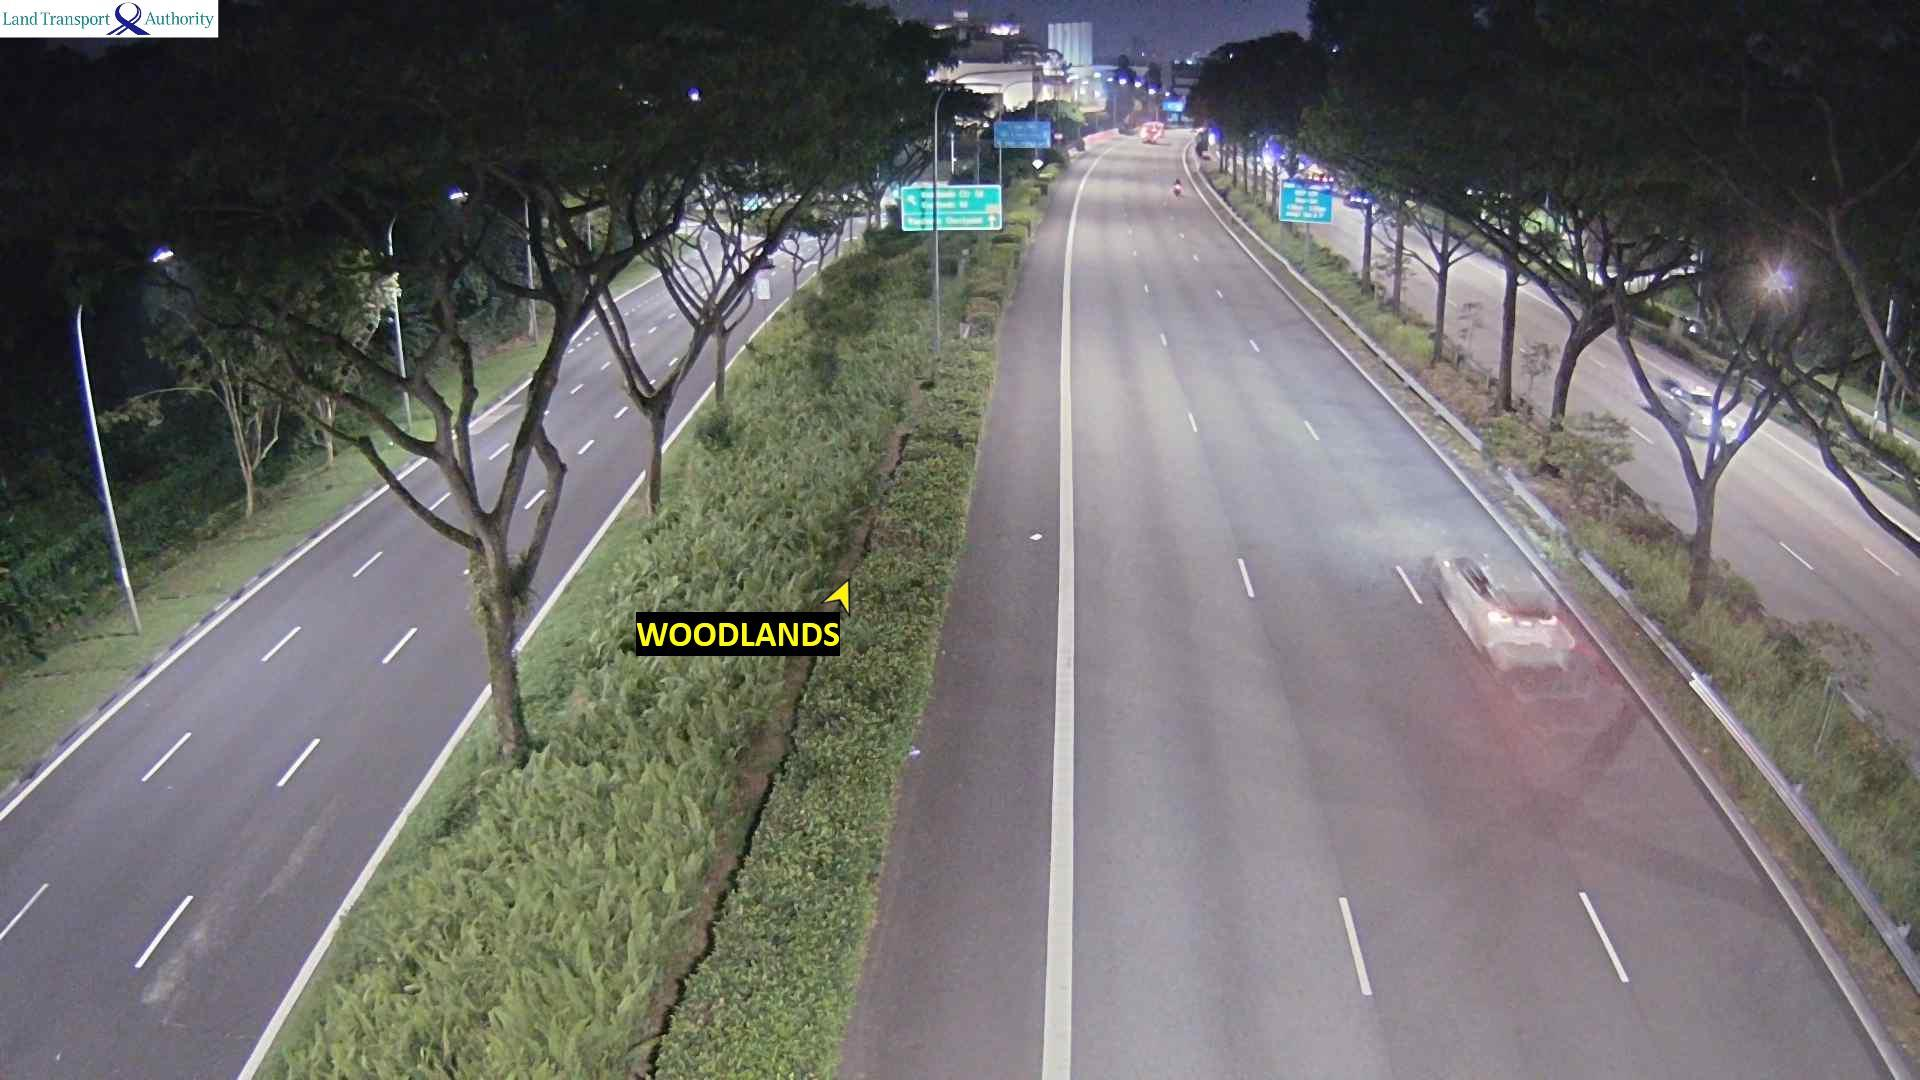cars: (1431, 548, 1576, 677), (1650, 374, 1752, 445), (1293, 163, 1337, 191), (1342, 185, 1376, 208), (1140, 120, 1165, 144), (1066, 140, 1085, 159), (1118, 117, 1133, 134)
motorcycle: (1172, 176, 1181, 198)
